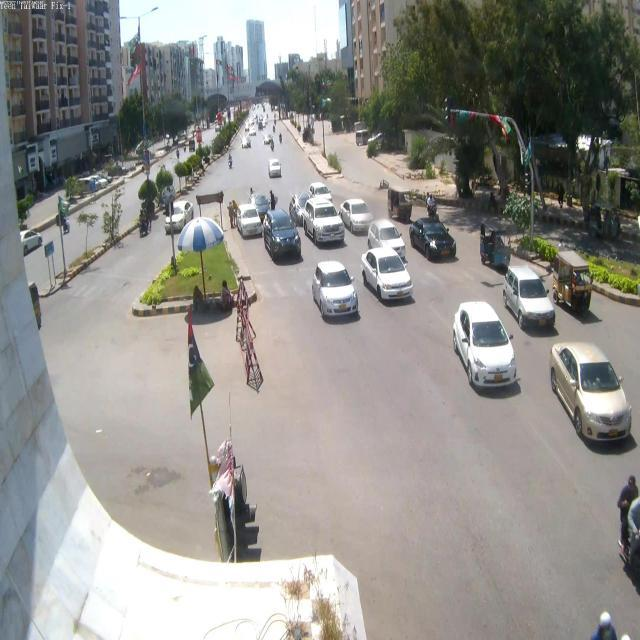car: (548, 341, 633, 450), (451, 300, 521, 395), (502, 261, 559, 333), (361, 244, 414, 306), (313, 260, 360, 323), (300, 189, 344, 249), (261, 208, 304, 263), (412, 218, 458, 263), (339, 198, 375, 236), (366, 219, 406, 253), (236, 207, 262, 240), (267, 158, 282, 180)
motorbike: (135, 203, 151, 240), (423, 191, 438, 223), (226, 151, 236, 173), (278, 133, 286, 144)
